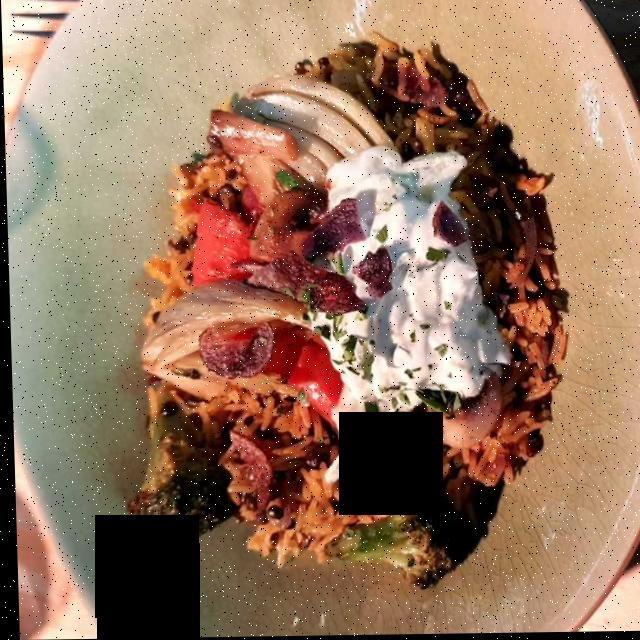broccoli: (110, 368, 496, 594)
mixed-vegetables: (144, 53, 397, 462)
rice: (122, 60, 560, 561)
sour-cream: (287, 132, 504, 472)
